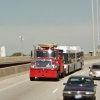Bus: (29, 42, 85, 76)
